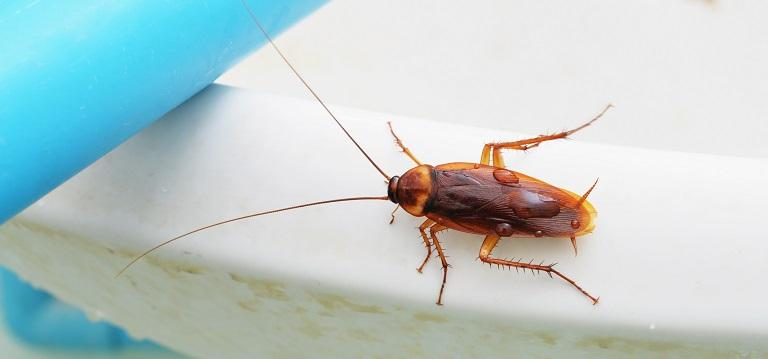cockroach: (382, 159, 606, 247)
